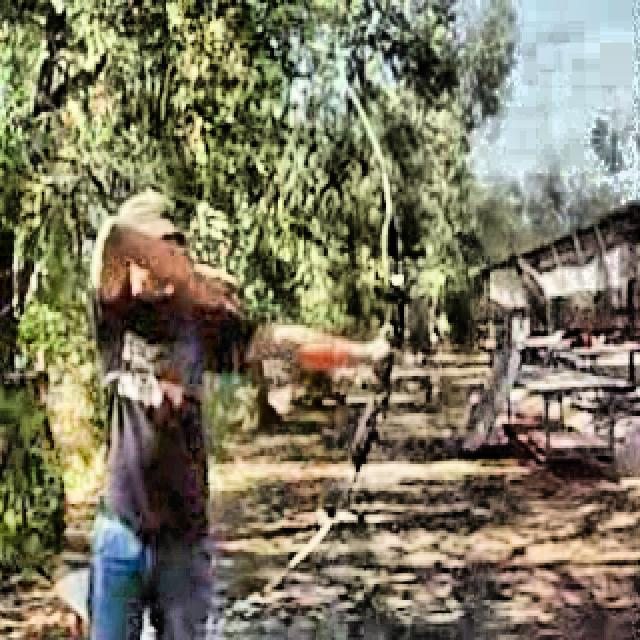I: (48, 171, 388, 640)
